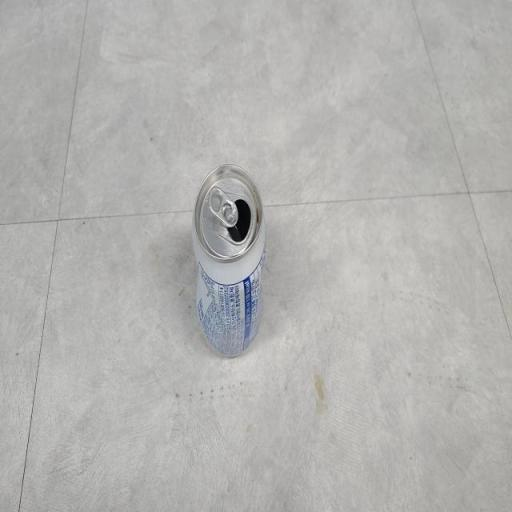metal: (176, 150, 279, 388)
